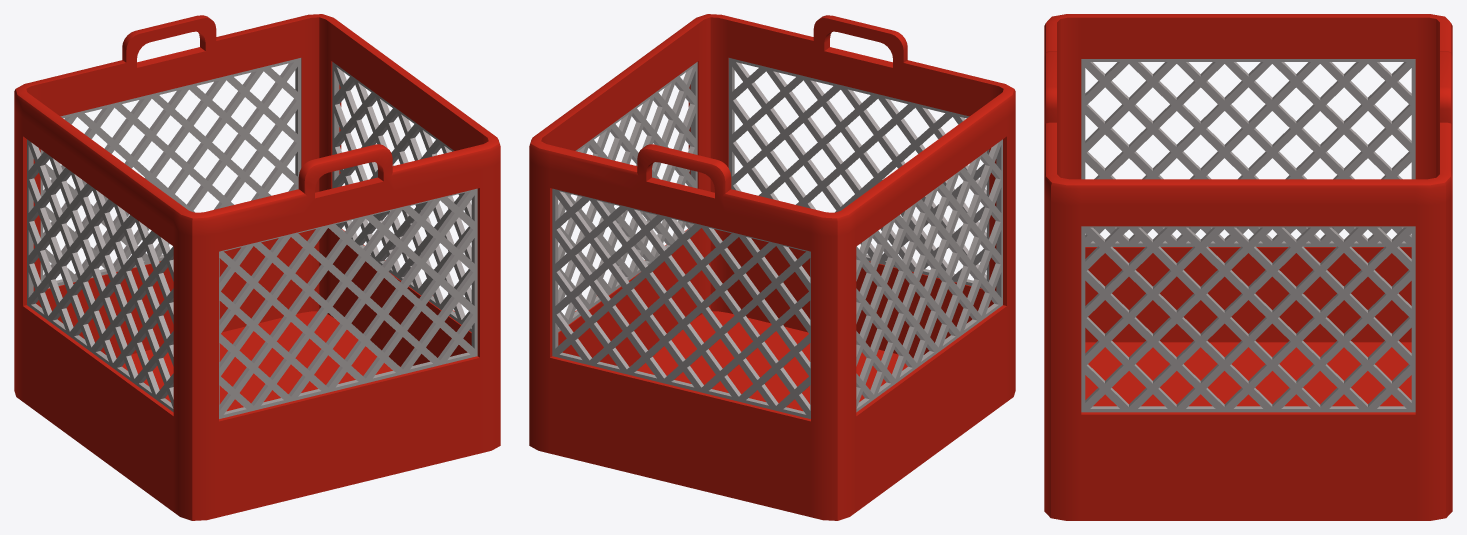
Rendered from ball-container.glb.
3 renders of one model, left to right at view 1: azimuth 30°, elevation 25°; view 2: azimuth 150°, elevation 25°; view 3: azimuth 270°, elevation 25°, orthographic. The views are drawn at different scales.
Visible parts, largest first — view 1: Cube; view 2: Cube; view 3: Cube.
Part boxes in pixels (<box>): Cube: <box>14,14,500,520</box>; Cube: <box>529,14,1015,520</box>; Cube: <box>1044,14,1452,520</box>.
Size of the model in its own units: 0.6232 by 0.6153 by 0.6232.
